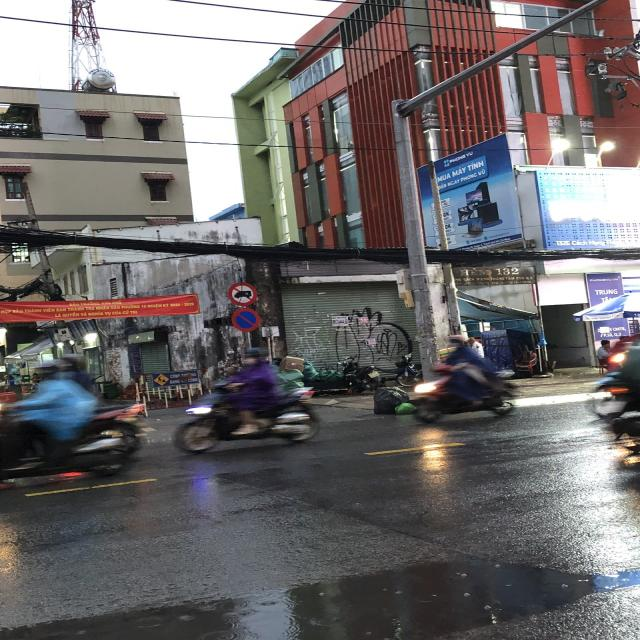Bien bao cam do xe: (231, 306, 263, 332)
Bien bao cam xe oto tai: (223, 280, 260, 307)
